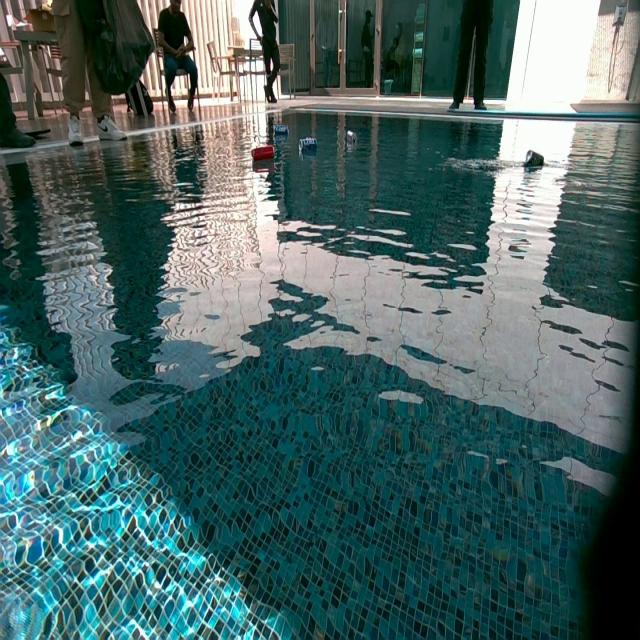Cans: (253, 143, 275, 161), (524, 149, 544, 168), (301, 138, 319, 154), (346, 131, 358, 146), (275, 125, 289, 137)
